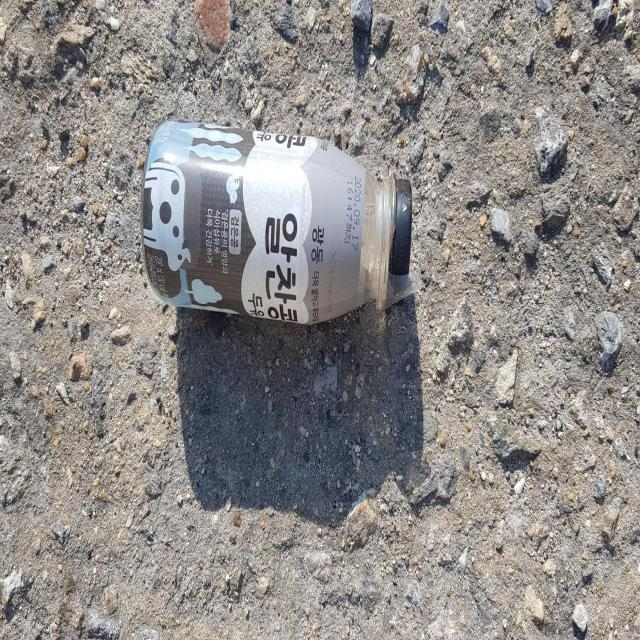glass: (142, 120, 413, 324)
